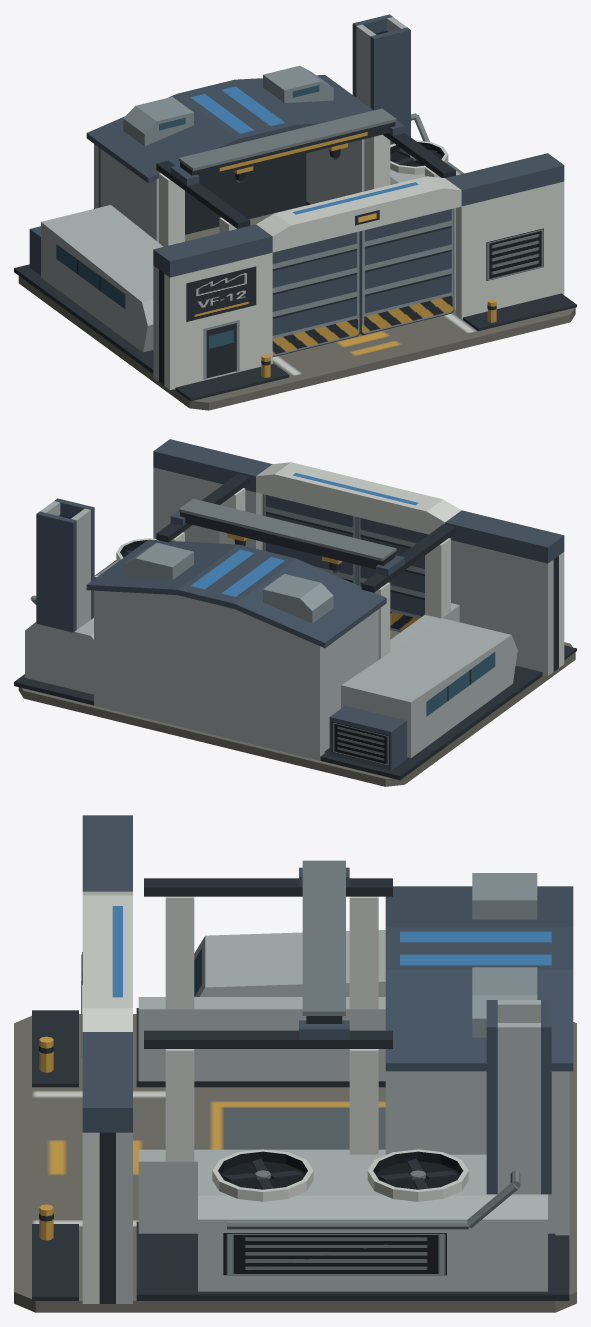
The model's file is vehicle_factory.glb.
3 views of the same model, one above another, from view 1: azimuth 30°, elevation 25°; view 2: azimuth 150°, elevation 25°; view 3: azimuth 270°, elevation 25° (orthographic). The views are drawn at different scales.
Visible parts, largest first — view 1: Base, DoorR, DoorL, Gantry; view 2: Base, Gantry, DoorL, DoorR; view 3: Base, Gantry, FanL, FanR.
Boxes of the visible parts, <box> form: Base: <box>14,14,576,410</box>; DoorR: <box>360,208,454,335</box>; DoorL: <box>272,231,359,356</box>; Gantry: <box>170,108,404,185</box>; Base: <box>14,439,576,786</box>; Gantry: <box>170,498,404,576</box>; DoorL: <box>358,517,428,632</box>; DoorR: <box>263,494,357,585</box>; Base: <box>14,815,576,1312</box>; Gantry: <box>299,860,349,1039</box>; FanL: <box>378,1158,457,1189</box>; FanR: <box>223,1158,302,1189</box>.
Size of the model in its own units: 192 by 83.5 by 156.
1 material, 1 textured.
